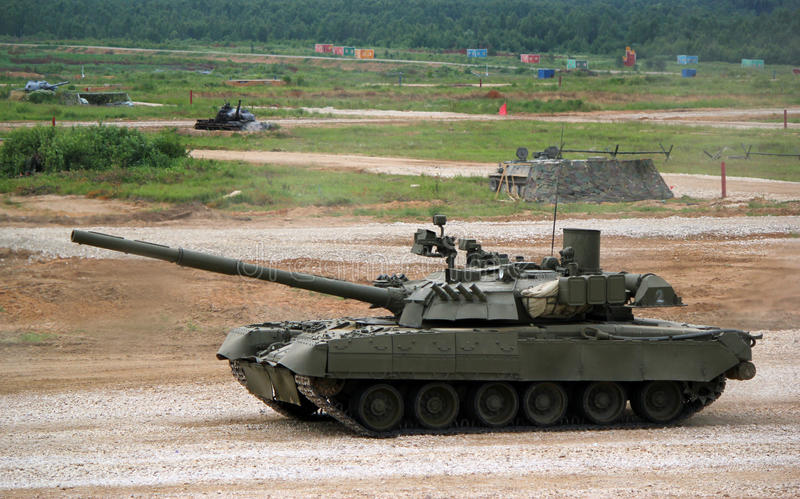t72: (67, 223, 755, 423)
